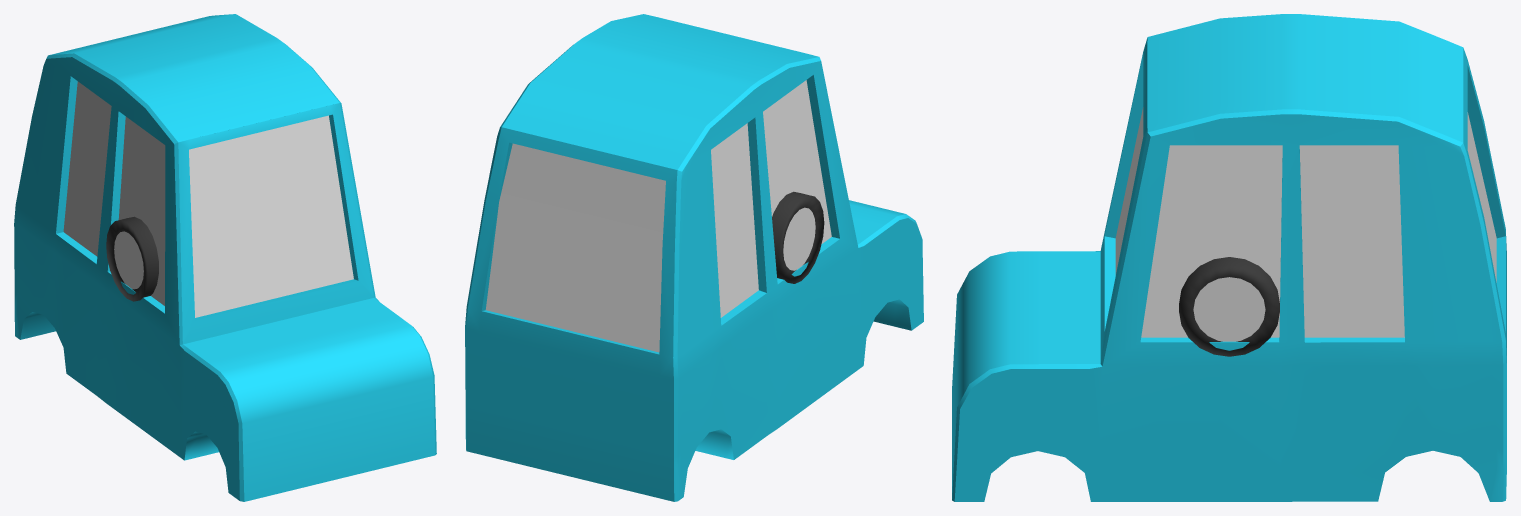
The model's file is car 1.fbx.
3 renders of one model, left to right at view 1: azimuth 30°, elevation 25°; view 2: azimuth 150°, elevation 25°; view 3: azimuth 270°, elevation 25°, orthographic. The views are drawn at different scales.
Parts seen in each view (by area): view 1: car_1_chasis, car_1_right_wheel; view 2: car_1_chasis, car_1_right_wheel; view 3: car_1_chasis, car_1_back_wheel.
Boxes of the visible parts, x1,y1,x2,y2 form: car_1_chasis: [14, 14, 436, 501]; car_1_right_wheel: [106, 216, 158, 301]; car_1_chasis: [465, 14, 923, 501]; car_1_right_wheel: [772, 192, 824, 283]; car_1_chasis: [952, 14, 1506, 501]; car_1_back_wheel: [1179, 257, 1279, 356].
Size of the model in its own units: 76.29 by 117 by 154.
